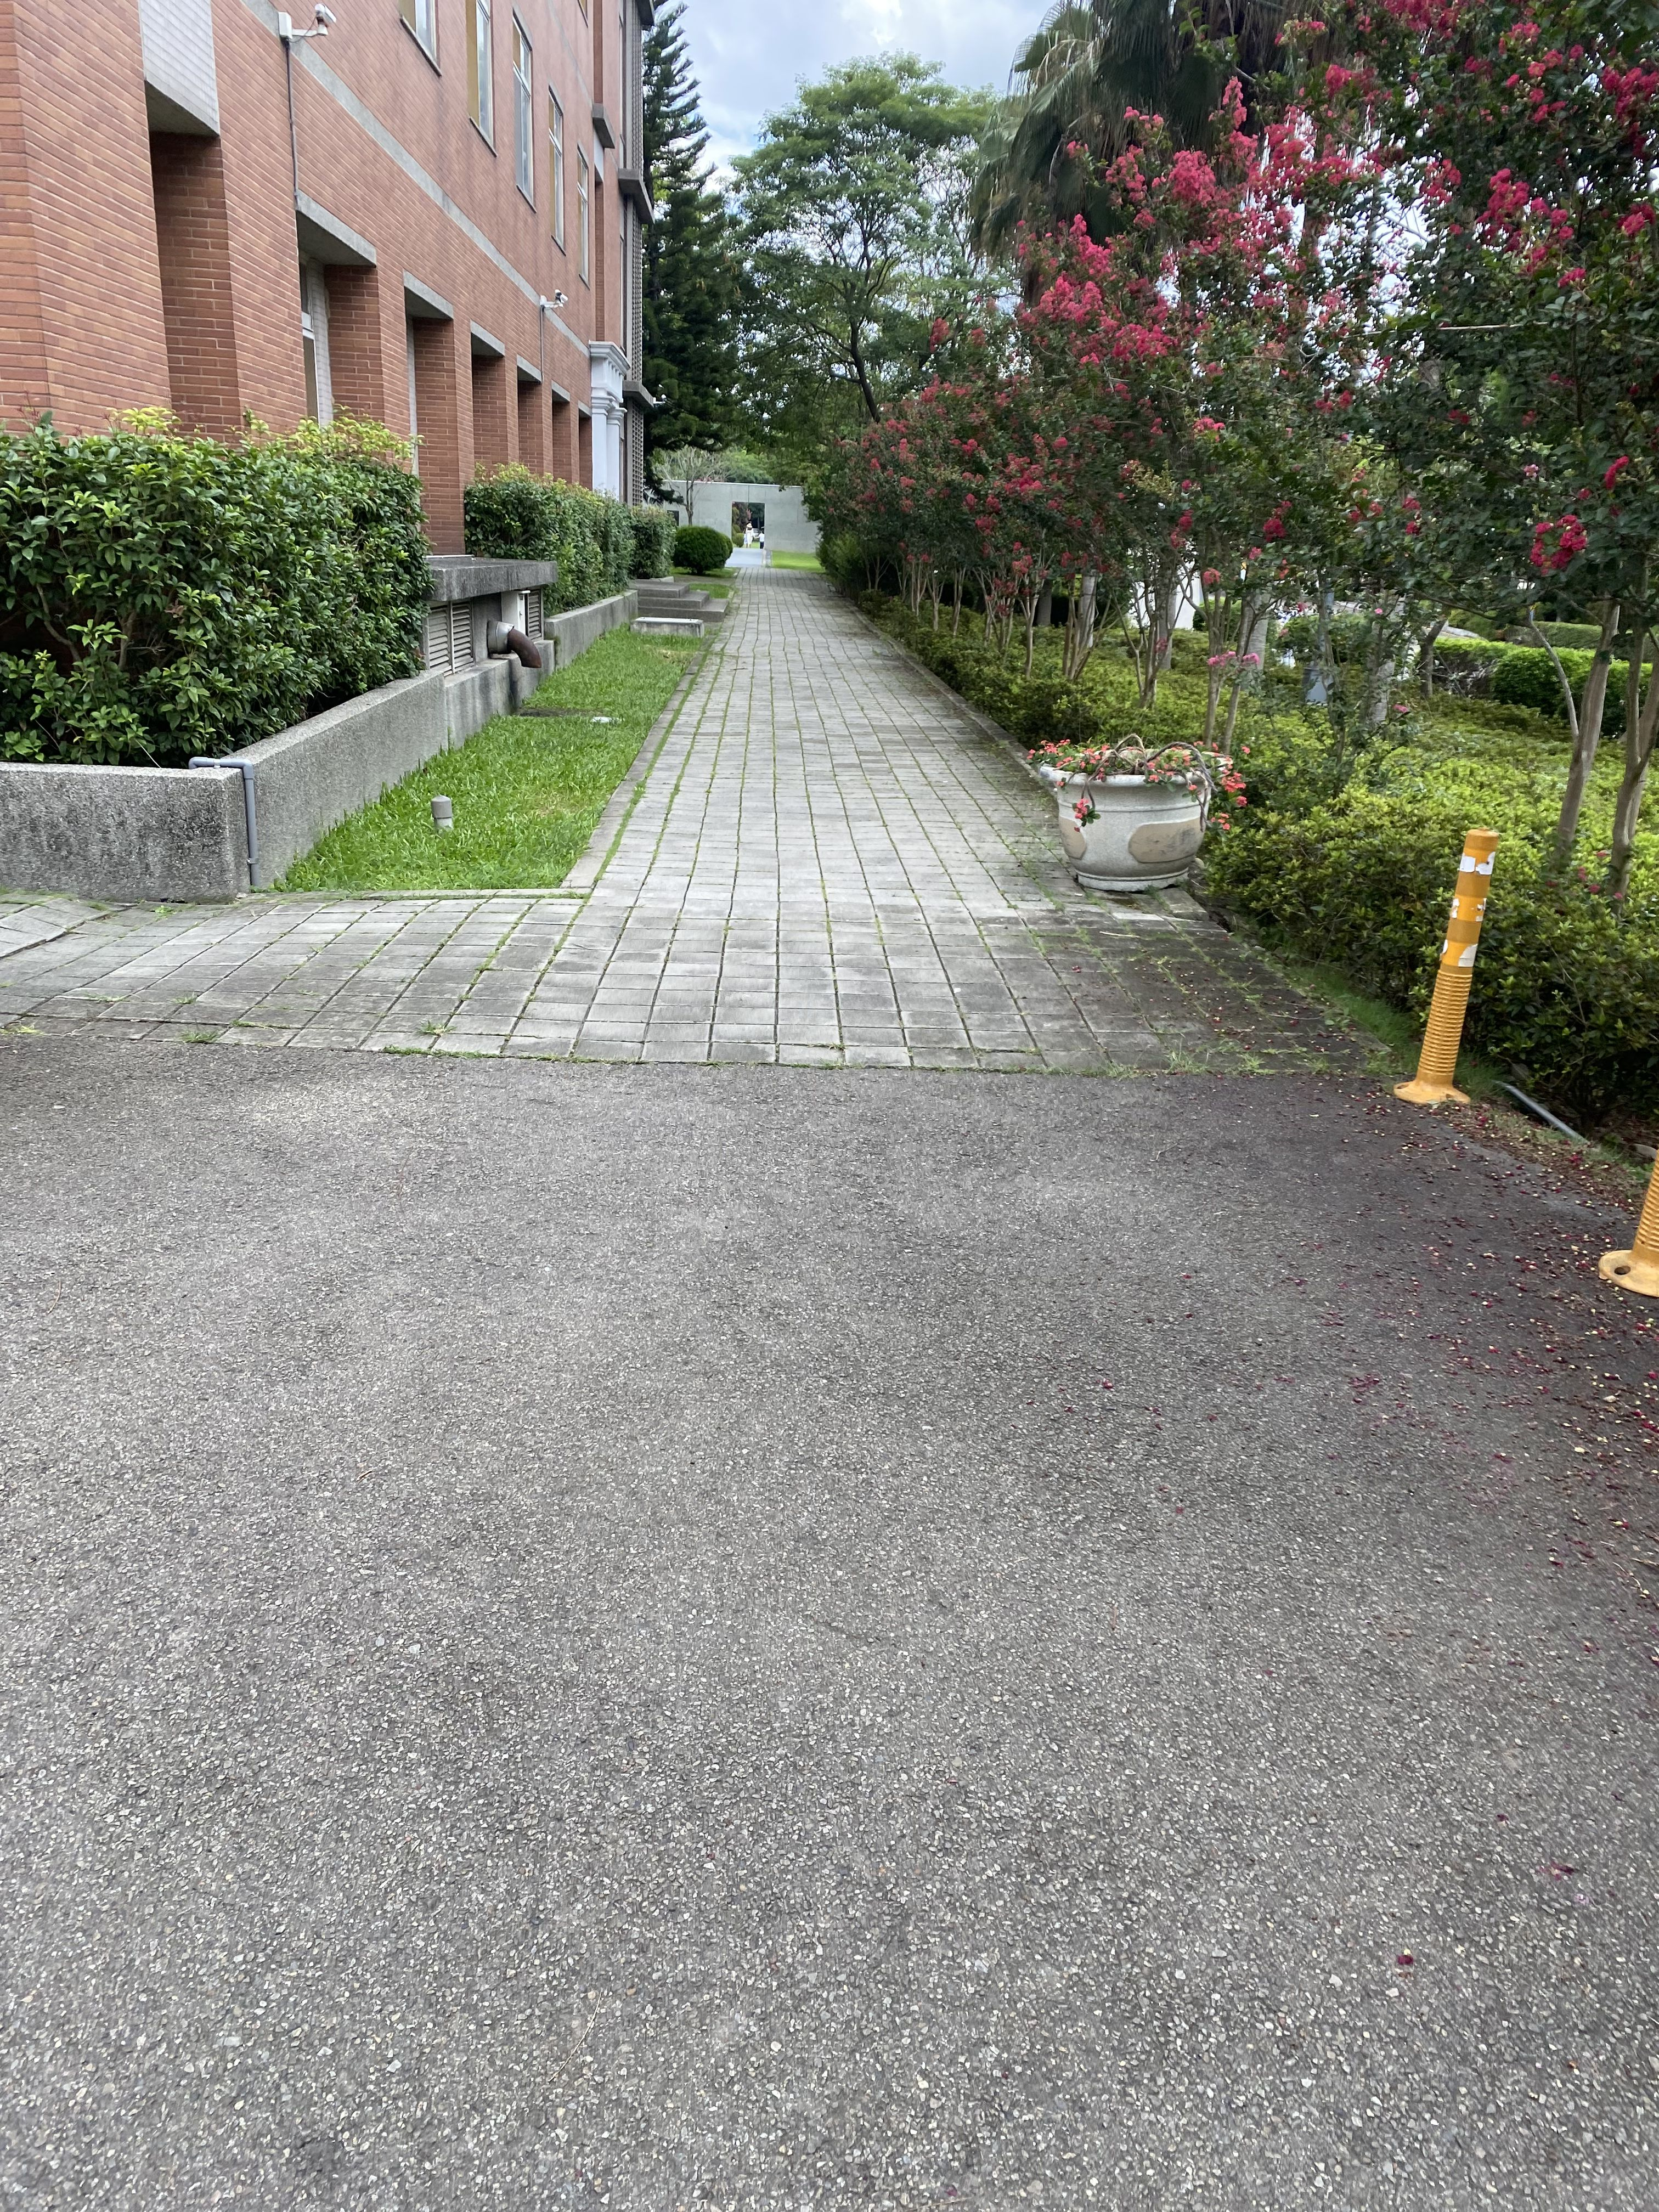0: (432, 1061, 1523, 2212)
sidewalk: (497, 512, 1438, 1327)
